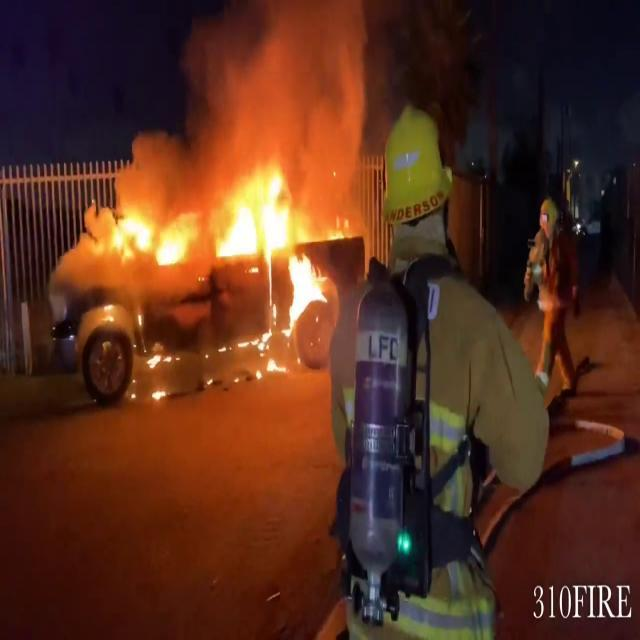Fire: (108, 155, 332, 345)
Smoke: (146, 0, 382, 184)
